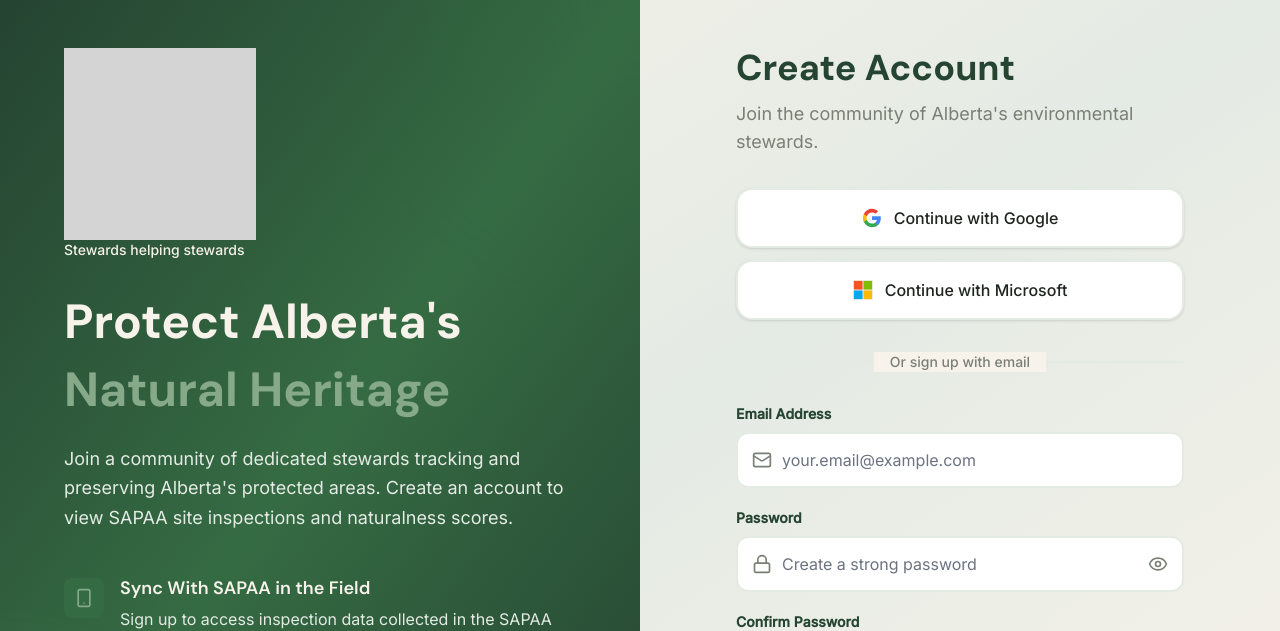
it: SignupPage › calculates password strength correctly
This screenshot has width=1280, height=631.
# Test weak password
Type "abc" into the password field labelled "Password" at (960, 564), box top-left (736, 536), bottom-right (1184, 592)
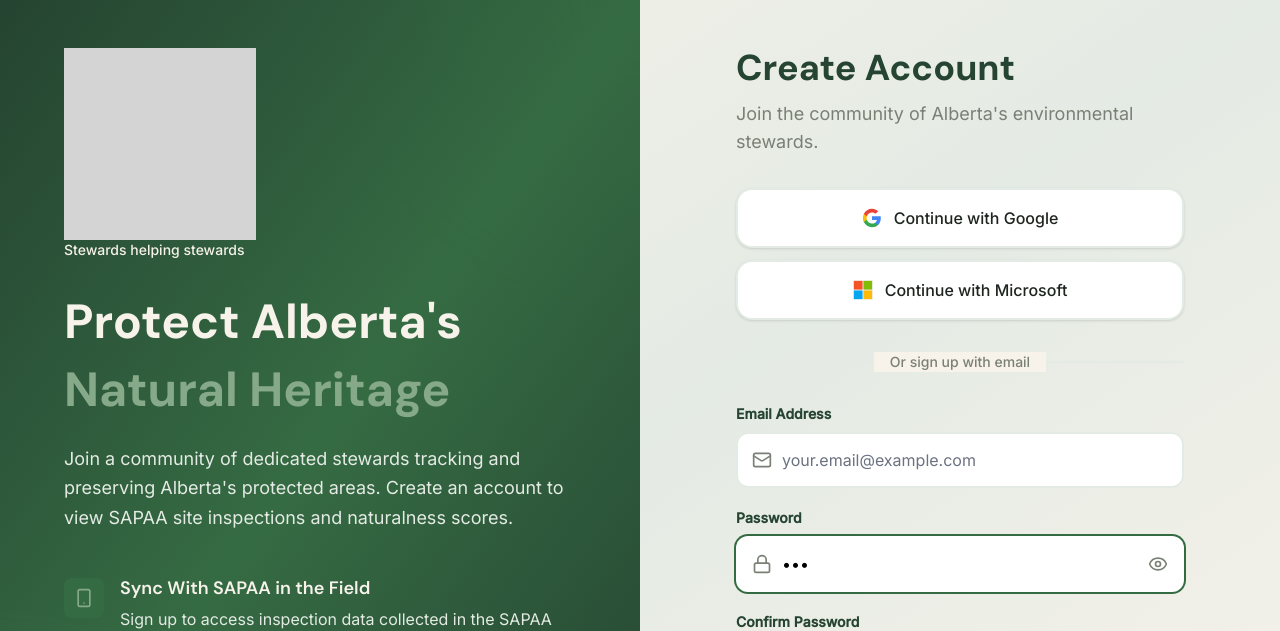
# Clear and test strong password
Type "Abc123!" into the password field labelled "Password" at (960, 564), box top-left (736, 536), bottom-right (1184, 592)
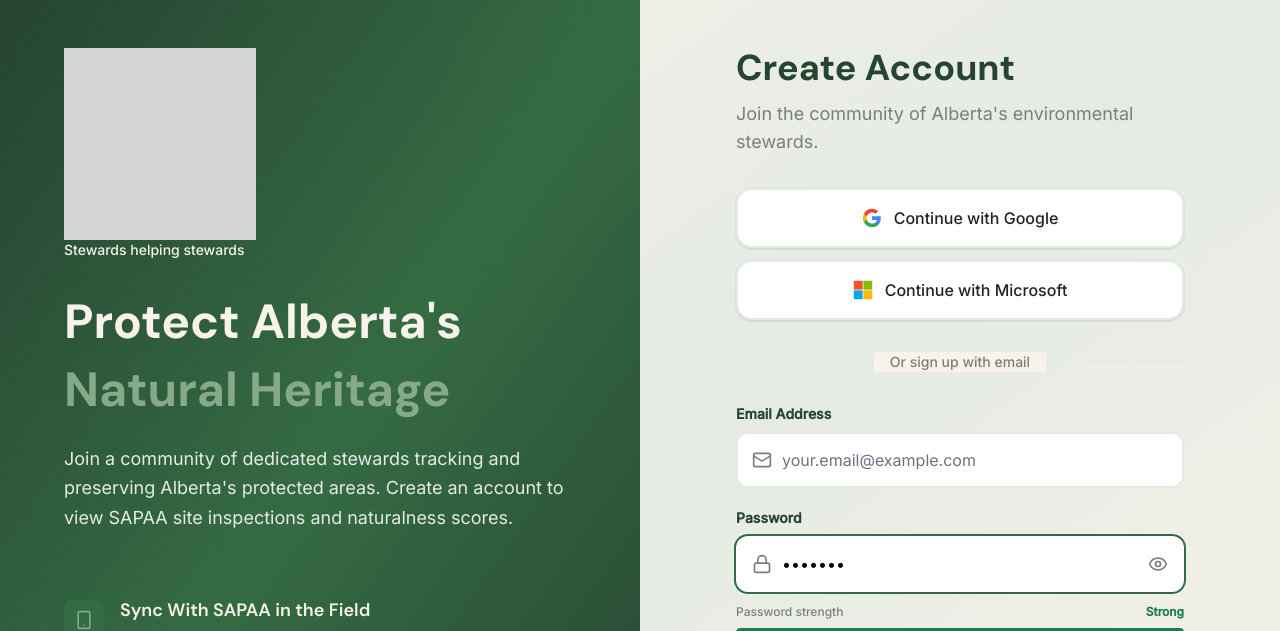
Check: the text "Strong" is shown, box top-left (1146, 604), bottom-right (1184, 620)
